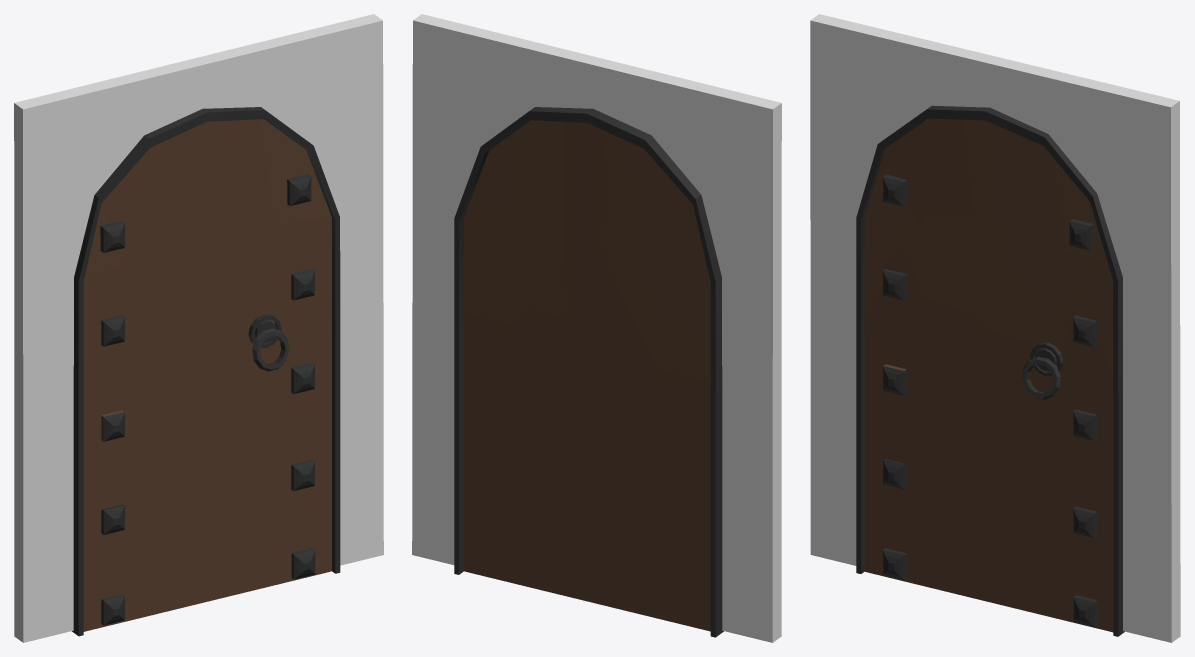
File: Porta__Muro_RID.fbx
The picture shows the model from 3 angles, left to right: view 1: azimuth 30°, elevation 25°; view 2: azimuth 150°, elevation 25°; view 3: azimuth 330°, elevation 25°; orthographic projection.
Visible parts, largest first — view 1: Porta INTERA, Cube.020; view 2: Porta INTERA, Cube.020; view 3: Porta INTERA, Cube.020.
Part boxes in pixels (bbox=[...]): Porta INTERA: bbox=[72, 107, 340, 636]; Cube.020: bbox=[14, 14, 383, 642]; Porta INTERA: bbox=[454, 107, 723, 637]; Cube.020: bbox=[412, 14, 781, 642]; Porta INTERA: bbox=[856, 105, 1124, 636]; Cube.020: bbox=[810, 14, 1180, 642].
Bounding box in the file's own units: 401 × 570 × 54.01.
